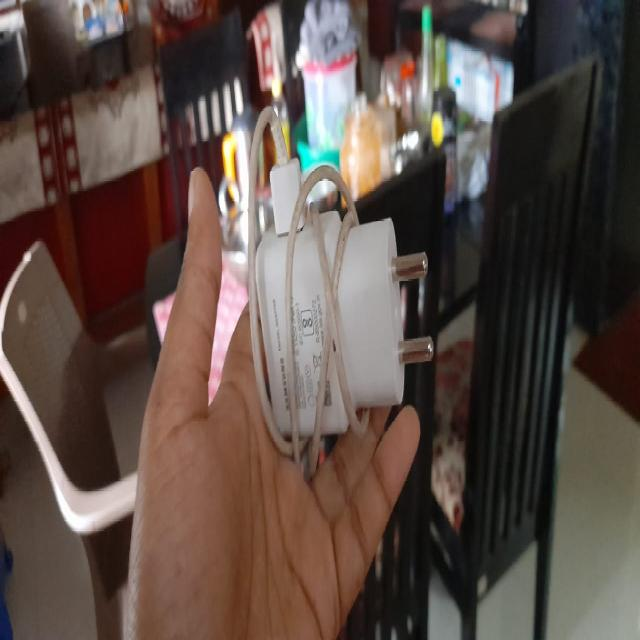Charger - Recyclable: (246, 103, 434, 466)
